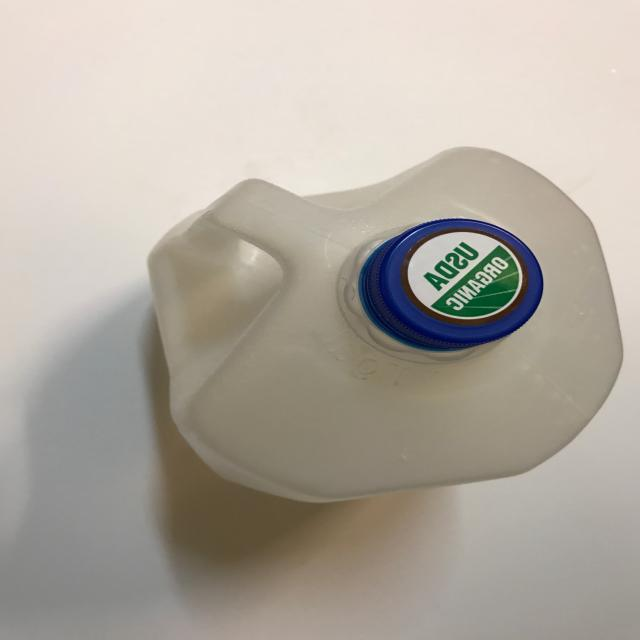plastic: (146, 144, 624, 503)
